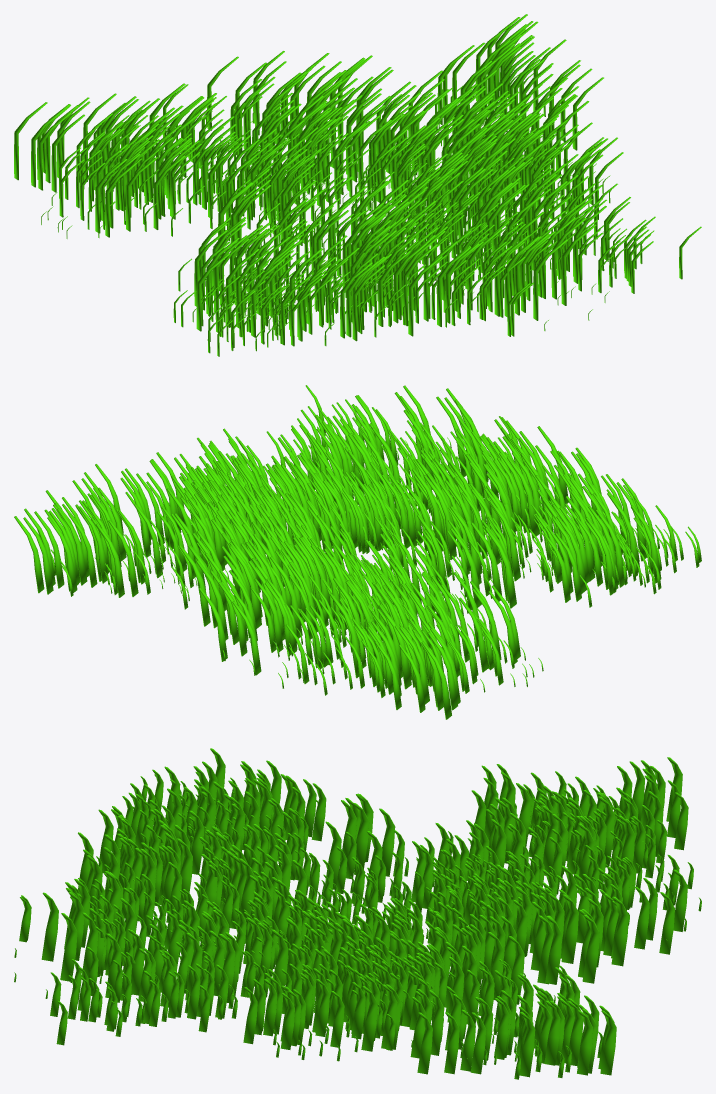
The model's file is grass.glb.
The picture shows the model from 3 angles, top to bottom: view 1: azimuth 30°, elevation 25°; view 2: azimuth 150°, elevation 25°; view 3: azimuth 270°, elevation 25°; orthographic projection. The views are drawn at different scales.
Parts seen in each view (by area): view 1: Plane; view 2: Plane; view 3: Plane.
Part boxes in pixels (x1=…): Plane: x1=14, y1=14, x2=701, y2=356; Plane: x1=14, y1=385, x2=701, y2=719; Plane: x1=14, y1=748, x2=701, y2=1079.
Bounding box in the file's own units: 15 × 2.19 × 15.11.
